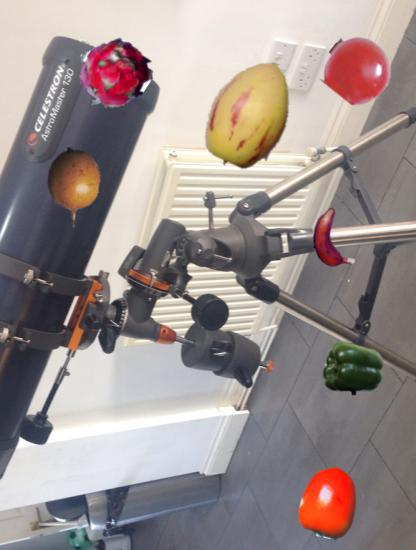Banana: (300, 208, 362, 270)
Granadilla: (33, 148, 113, 228)
Kaki: (293, 466, 366, 539)
Pepino: (193, 57, 307, 171)
Pepper: (322, 337, 385, 400)
Pitahaya: (75, 38, 148, 111)
Redcurrant: (324, 36, 392, 104)
